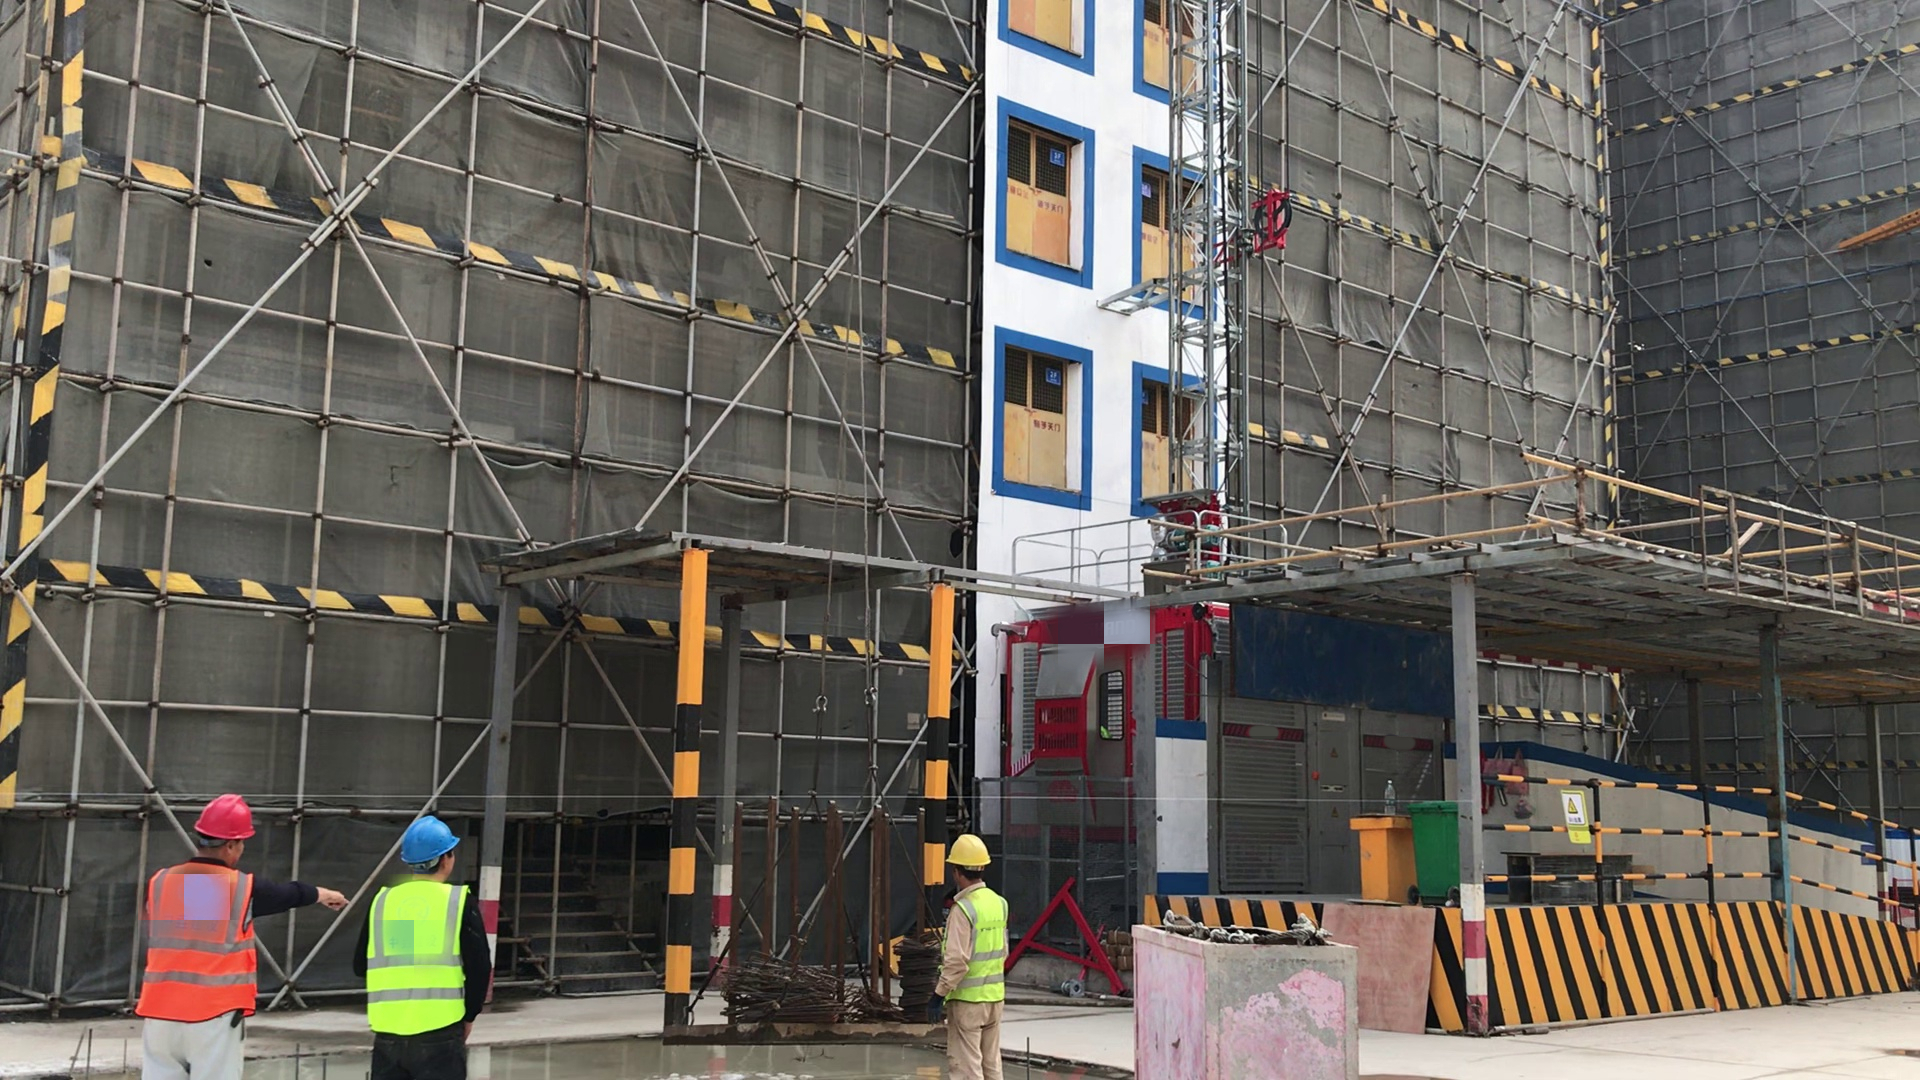fence: (1461, 737, 1920, 927)
helmet: (393, 815, 468, 866), (191, 793, 260, 848), (948, 830, 997, 876)
person: (138, 786, 343, 1080), (360, 807, 494, 1080), (935, 829, 1016, 1080)
slogan: (1565, 774, 1608, 863)
vest: (146, 858, 264, 1030), (367, 878, 468, 1037), (941, 886, 1011, 1018)
